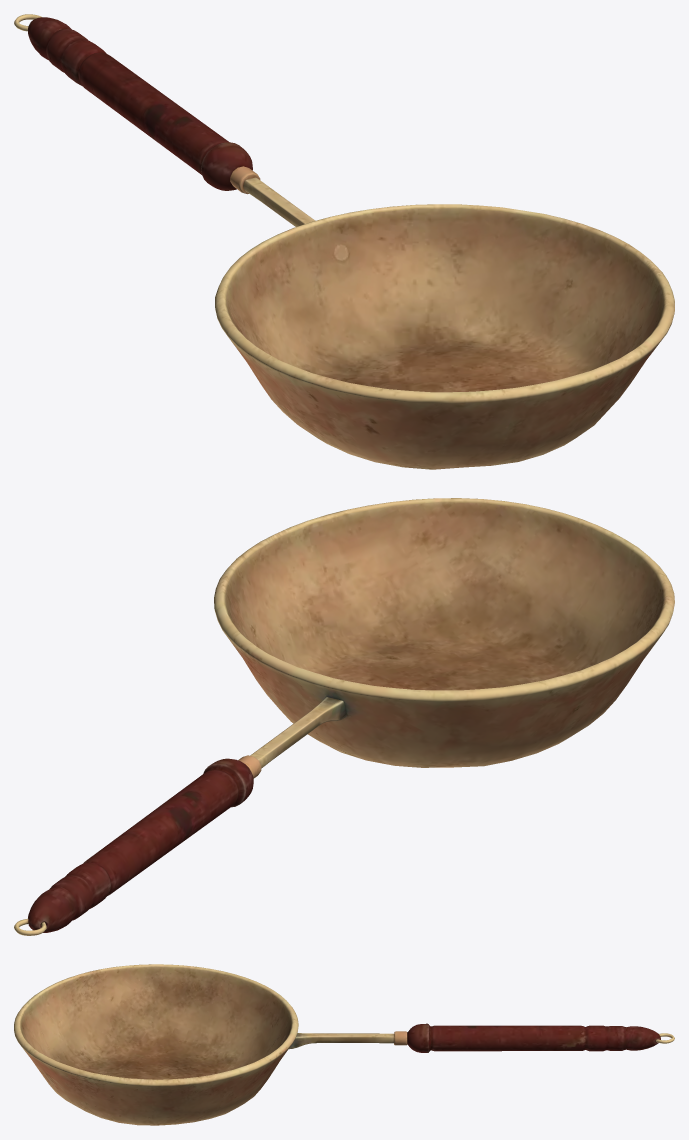
The model's file is brass_pan_01.glb.
3 renders of one model, top to bottom at view 1: azimuth 30°, elevation 25°; view 2: azimuth 150°, elevation 25°; view 3: azimuth 270°, elevation 25°, orthographic. The views are drawn at different scales.
Visible parts, largest first — view 1: brass_pan_01; view 2: brass_pan_01; view 3: brass_pan_01.
Part boxes in pixels (x1,y1,x2,y2): brass_pan_01: (14, 14, 674, 469); brass_pan_01: (14, 498, 674, 935); brass_pan_01: (14, 964, 674, 1125).
Size of the model in its own units: 0.1913 by 0.0525 by 0.4497.
Materials: 1 (1 with a texture image).
